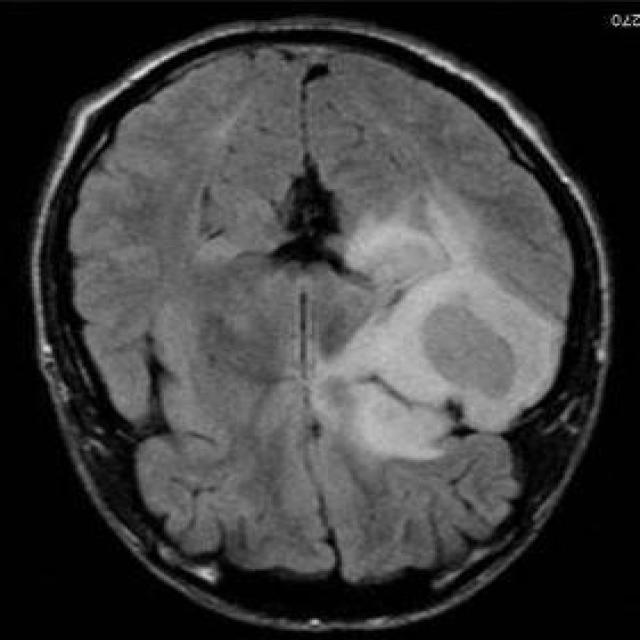brain tumor: (312, 224, 563, 458)
